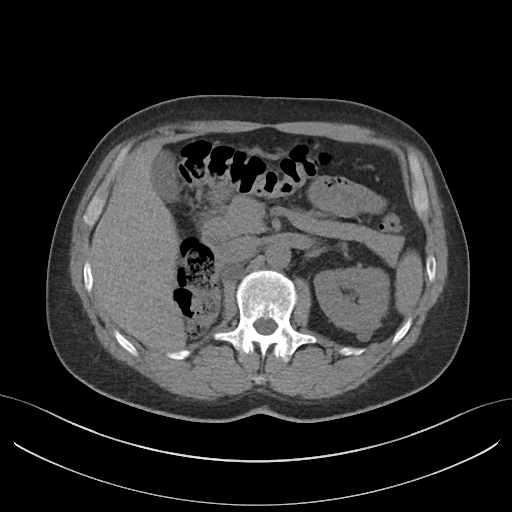Lesion: (356, 323, 373, 344)
